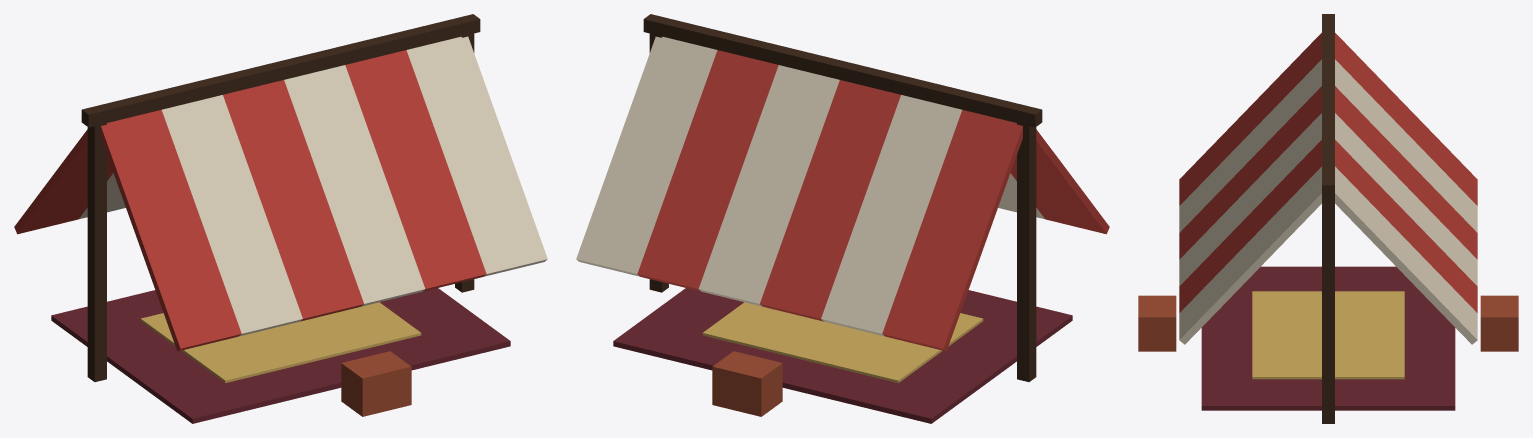
The model's file is dd_tent.glb.
The picture shows the model from 3 angles, left to right: view 1: azimuth 30°, elevation 25°; view 2: azimuth 150°, elevation 25°; view 3: azimuth 270°, elevation 25°; orthographic projection. The views are drawn at different scales.
Parts seen in each view (by area): view 1: DUBG_dd_tent; view 2: DUBG_dd_tent; view 3: DUBG_dd_tent.
Part boxes in pixels (box(x1,y1,x2,y2)): DUBG_dd_tent: box(14, 14, 547, 423); DUBG_dd_tent: box(576, 14, 1109, 423); DUBG_dd_tent: box(1138, 14, 1518, 423).
Bounding box in the file's own units: 7.46 × 4.89 × 6.99.
